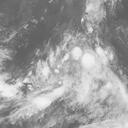cyclone: (35, 42, 117, 116)
